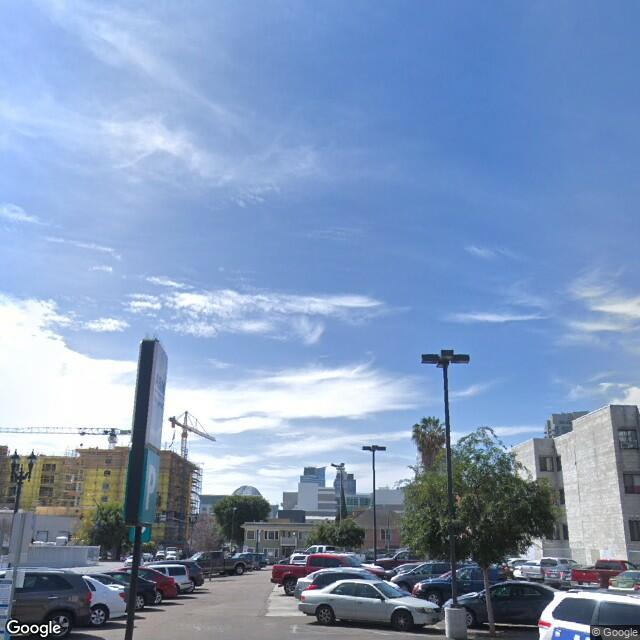light: (419, 351, 466, 370)
window: (618, 426, 639, 454)
